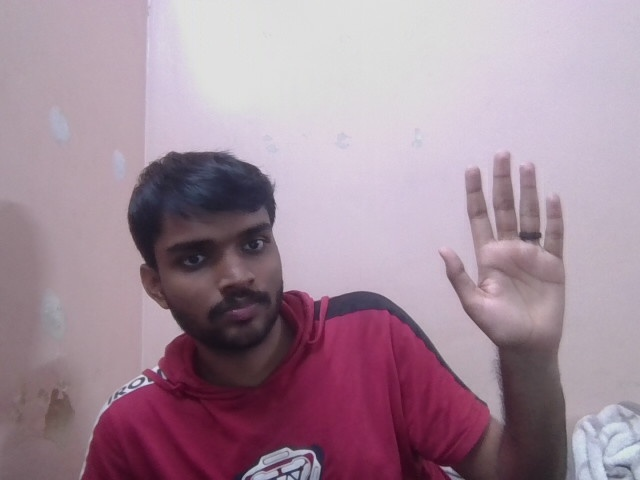Hello: (435, 151, 593, 352)
